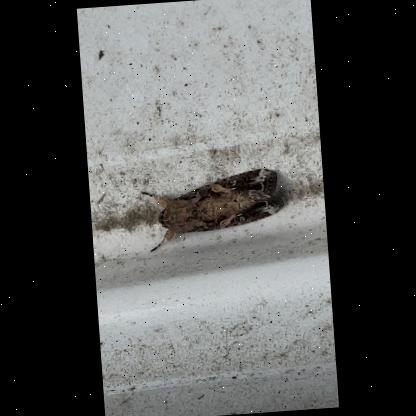Fall Armyworm Moth: (137, 166, 289, 256)
